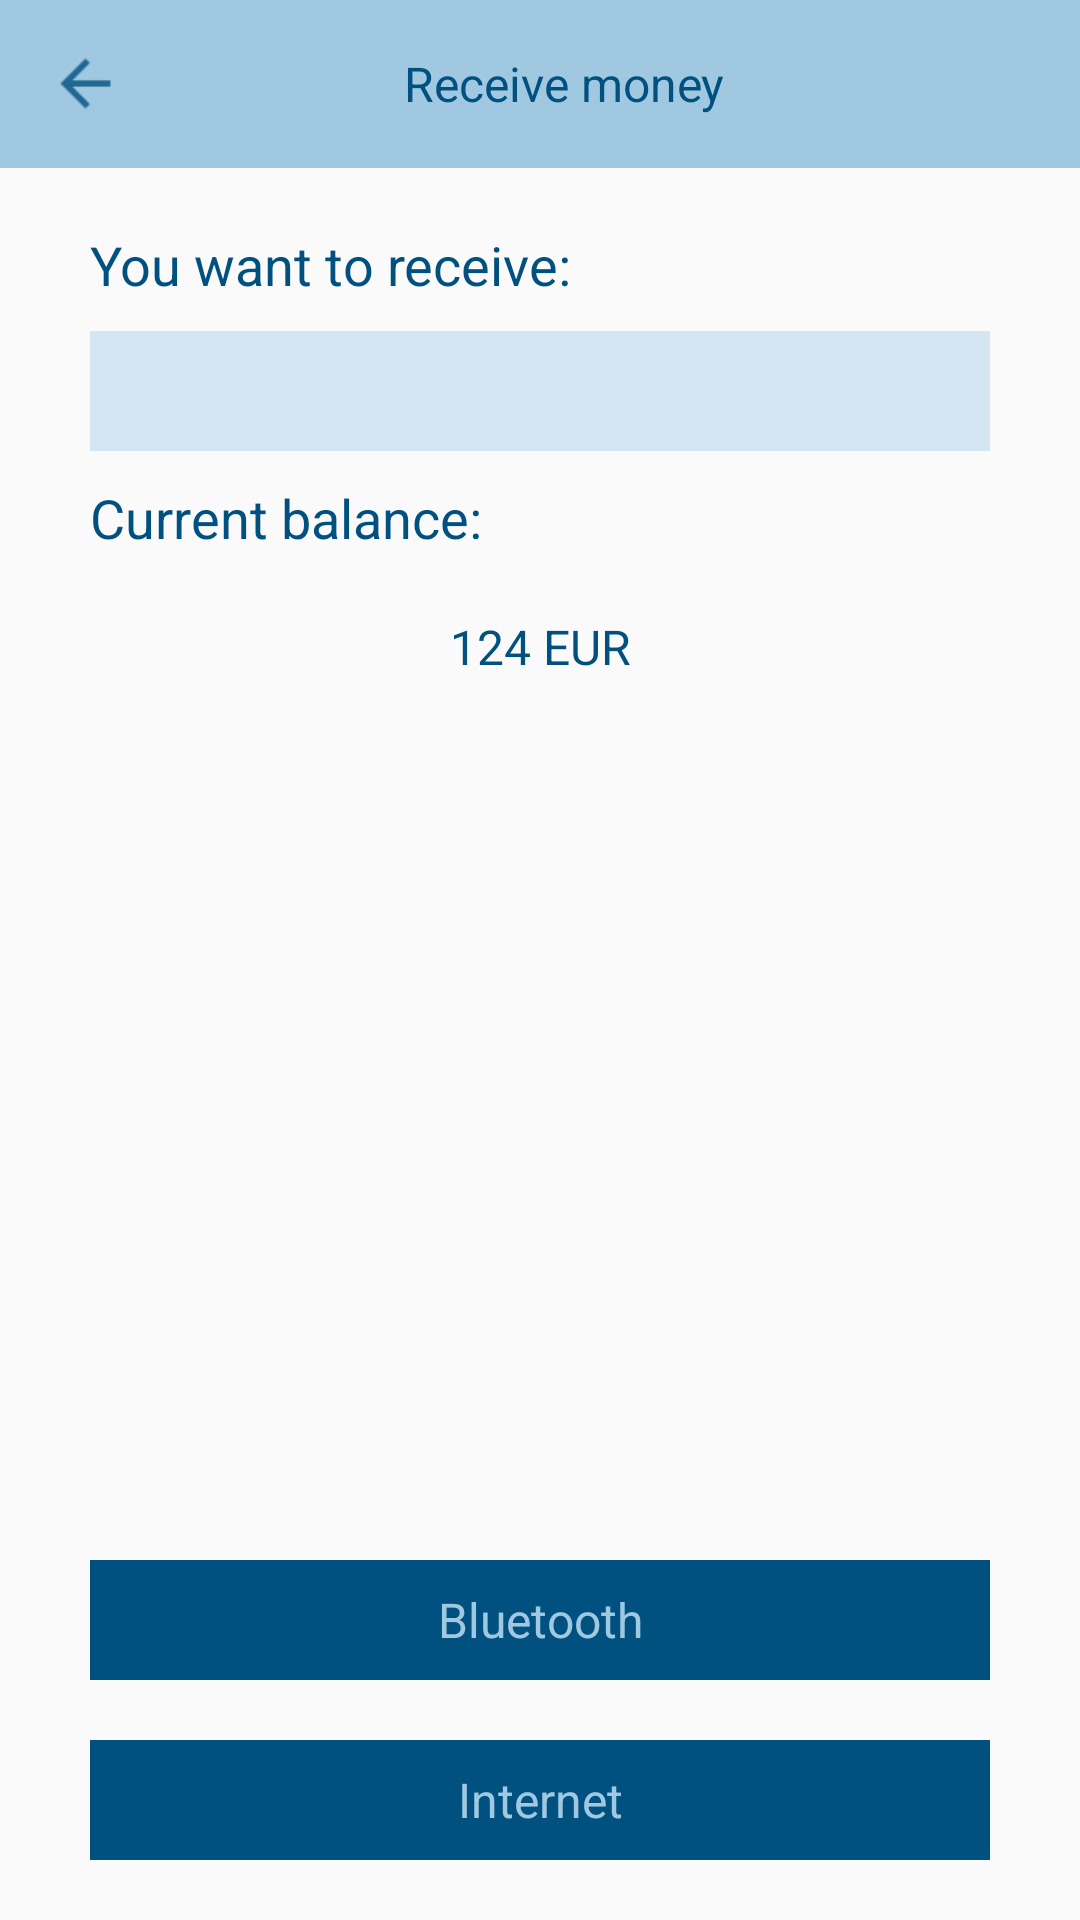

Icon bounding boxes for this 1080px x 1920px phone screenshot, format (x1, y1, x2, y2):
arrow back: (60, 58, 111, 109)
